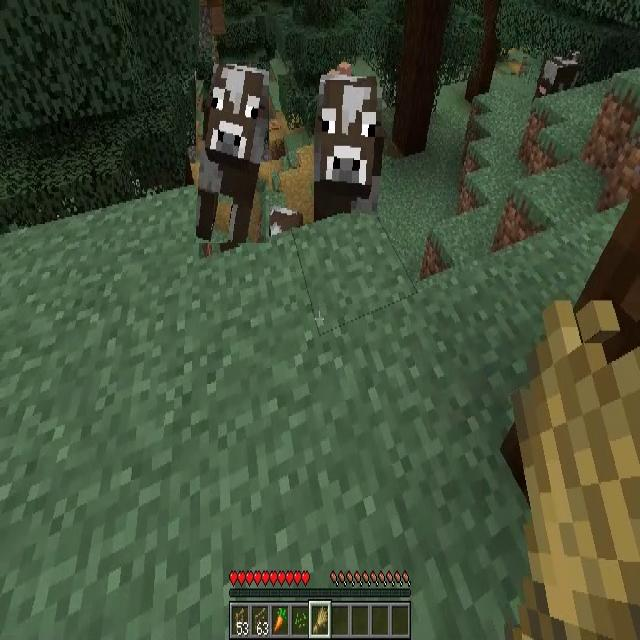cow: (196, 62, 269, 243), (316, 72, 382, 223), (535, 47, 581, 102)
